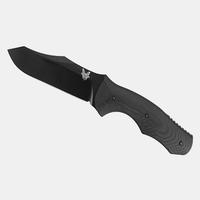knife: (6, 39, 188, 158)
